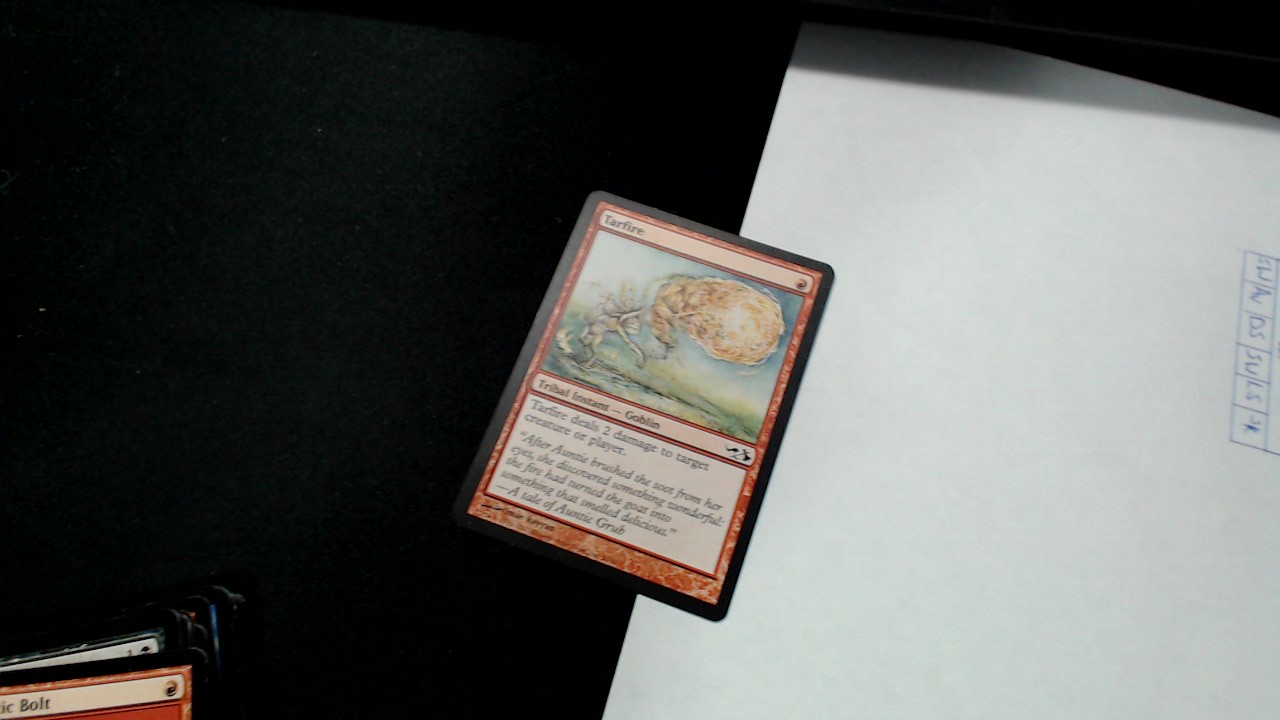MTG Card: (444, 184, 849, 632)
